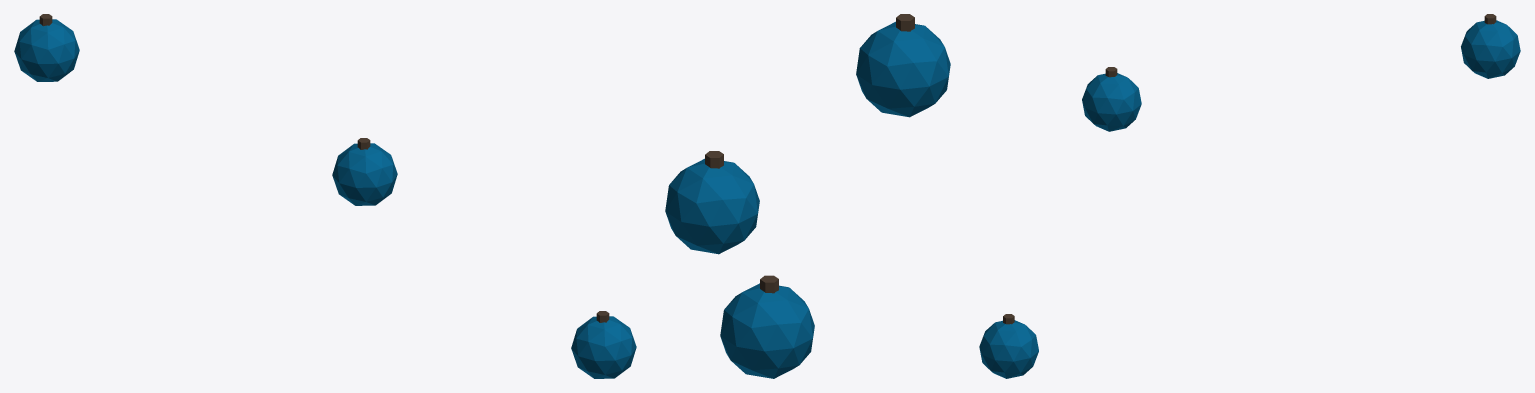
The model's file is findornament2.gltf.
3 renders of one model, left to right at view 1: azimuth 30°, elevation 25°; view 2: azimuth 150°, elevation 25°; view 3: azimuth 270°, elevation 25°, orthographic. The views are drawn at different scales.
Parts seen in each view (by area): view 1: ornament_Icosphere.063, ornament_Icosphere.059, ornament_Icosphere.062; view 2: ornament_Icosphere.062, ornament_Icosphere.063, ornament_Icosphere.059, ornament_2_Cylinder.043, ornament_2_Cylinder.061, ornament_2_Cylinder.062; view 3: ornament_Icosphere.059, ornament_Icosphere.063, ornament_Icosphere.062.
Part boxes in pixels (<box>): ornament_Icosphere.063: <box>332,143,397,205</box>; ornament_Icosphere.059: <box>14,19,79,81</box>; ornament_Icosphere.062: <box>571,316,636,378</box>; ornament_Icosphere.062: <box>665,158,759,254</box>; ornament_Icosphere.063: <box>856,21,950,117</box>; ornament_Icosphere.059: <box>720,283,814,378</box>; ornament_2_Cylinder.043: <box>760,275,778,293</box>; ornament_2_Cylinder.061: <box>896,14,914,31</box>; ornament_2_Cylinder.062: <box>705,151,723,168</box>; ornament_Icosphere.059: <box>1461,20,1520,78</box>; ornament_Icosphere.063: <box>1082,73,1141,131</box>; ornament_Icosphere.062: <box>979,320,1038,378</box>.
Bounding box in the file's own units: 11.58 × 7.63 × 16.61.
